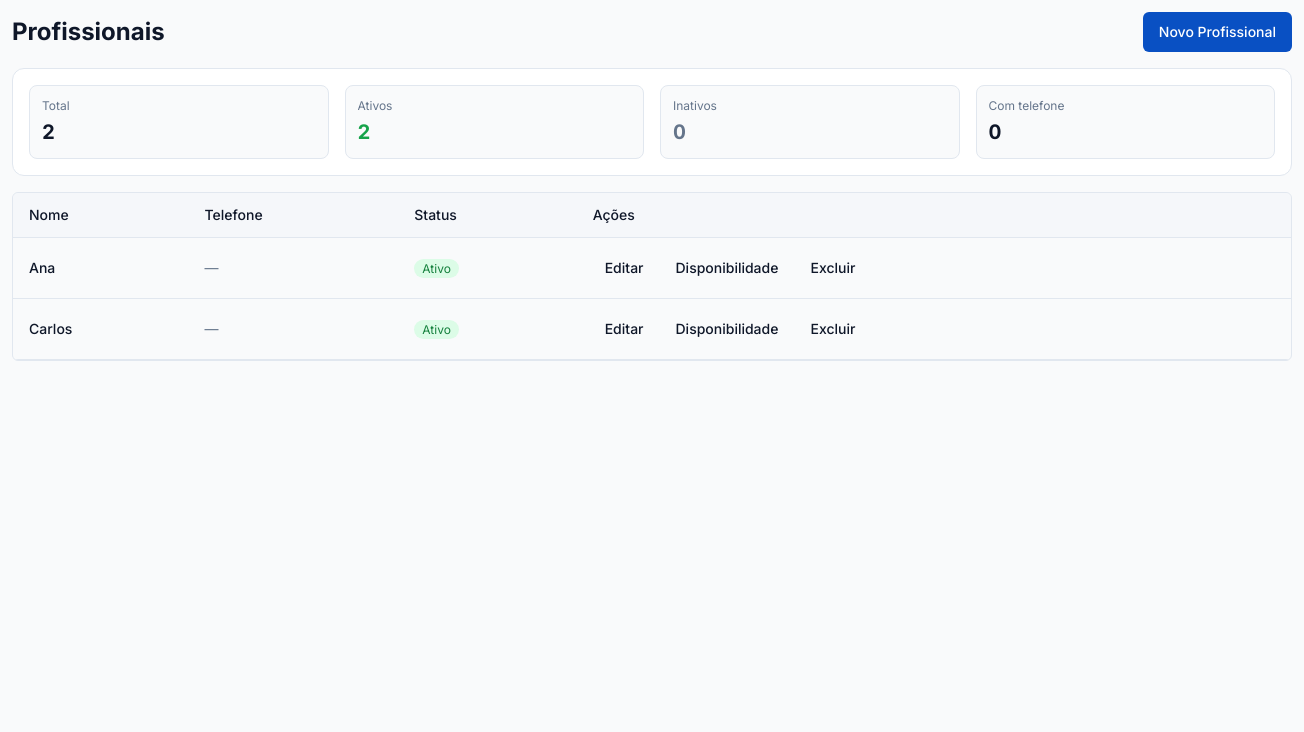
Scenario: Profissionais page › exibe formulário ao clicar em Novo Profissional
Click the button "Novo Profissional" at (1217, 32), box [1143,12,1292,52]
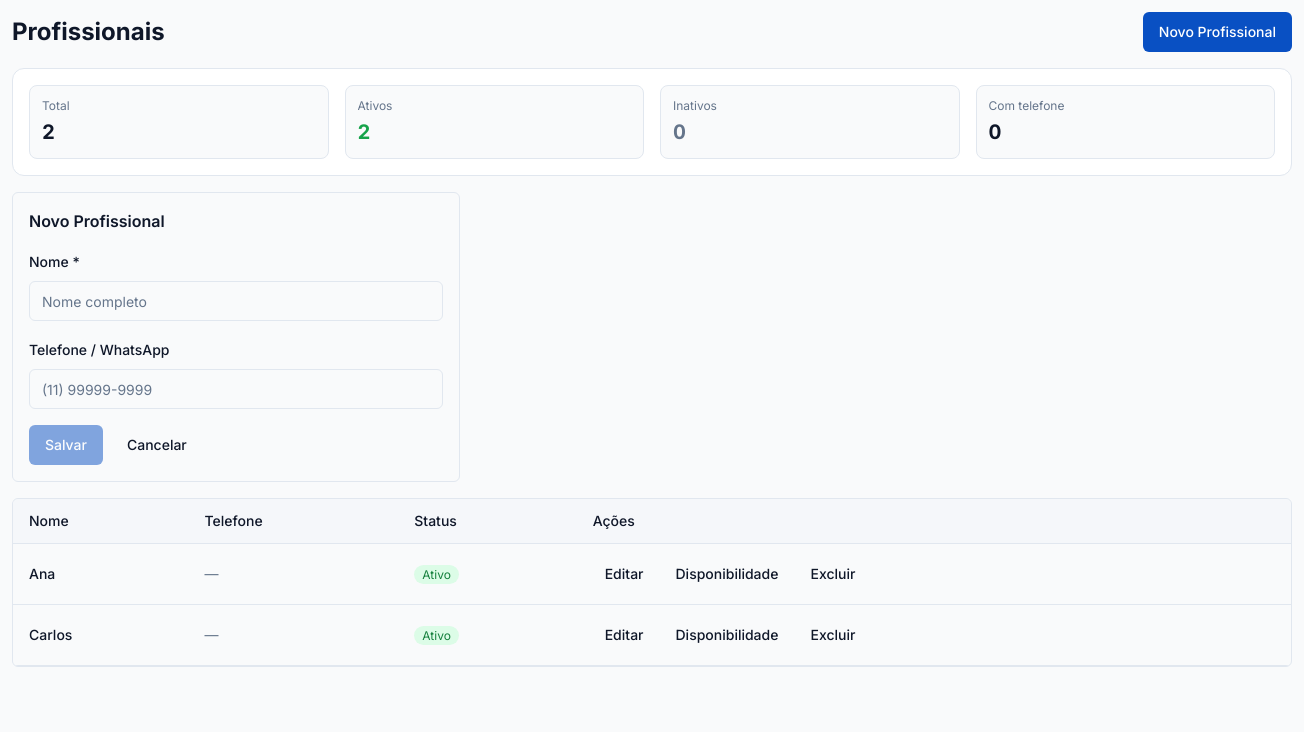
Check: the field with placeholder "Nome completo" is shown, box [29,281,443,321]
